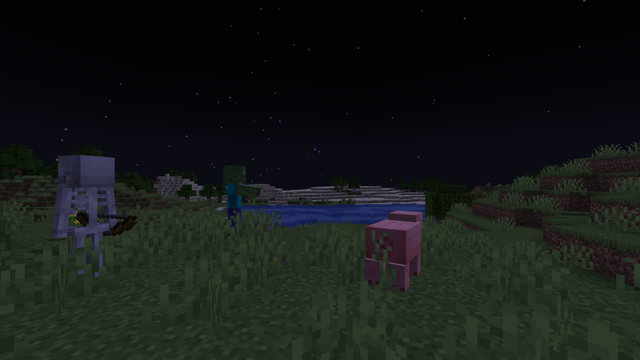cochons: (368, 218, 430, 288)
squelettes: (50, 155, 119, 286)
zombies: (218, 167, 249, 242)
